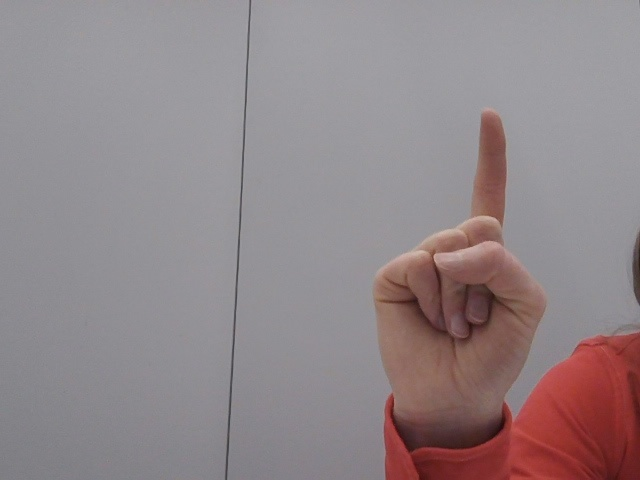up: (336, 101, 554, 459)
